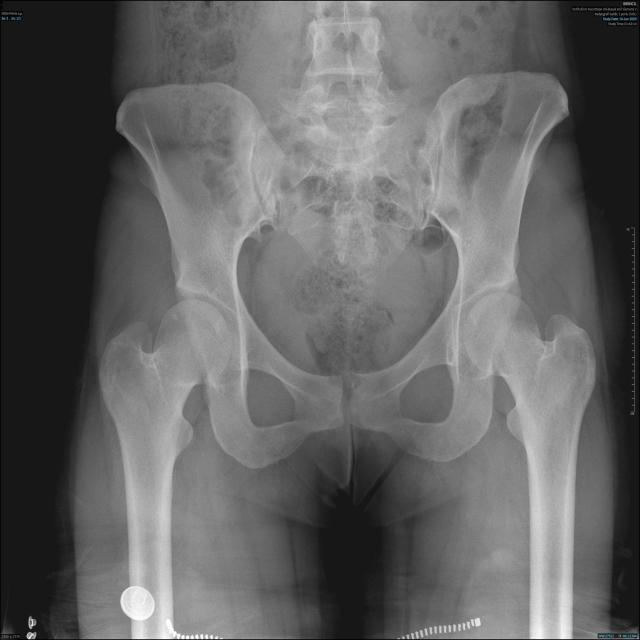normal-left: (464, 292, 596, 513)
normal-right: (99, 300, 230, 527)
